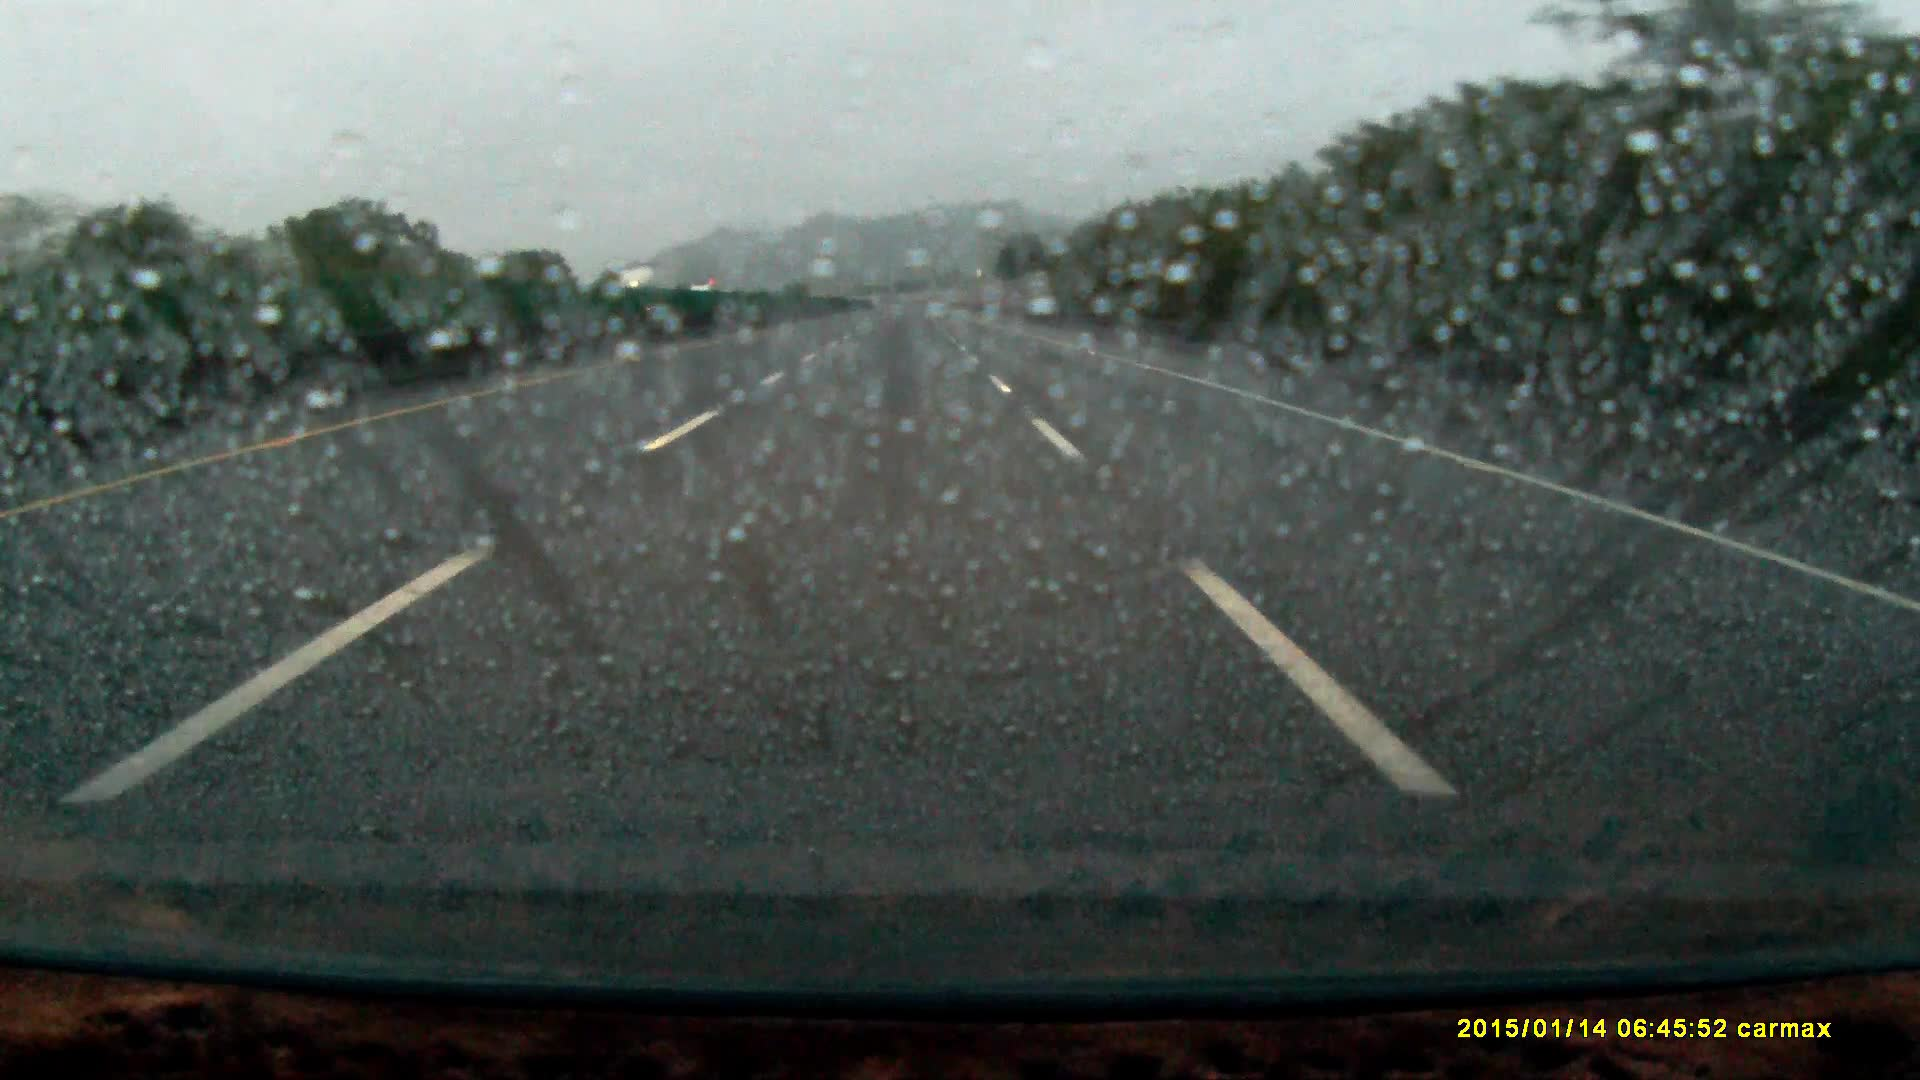vehicle: (690, 276, 719, 297)
